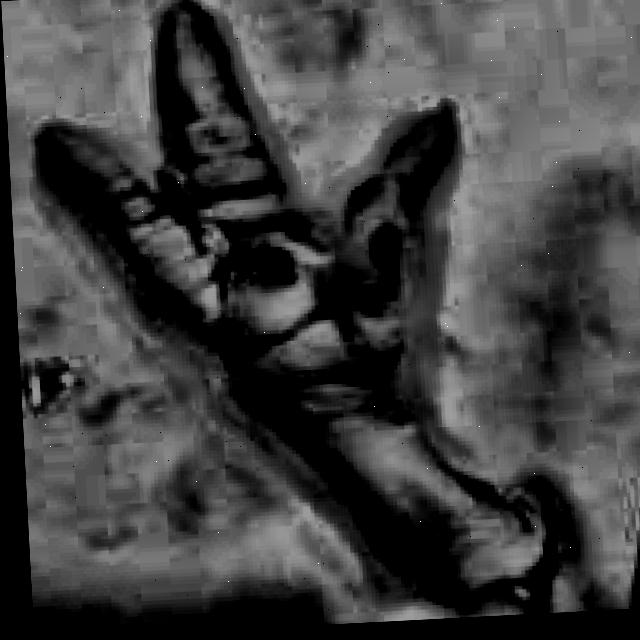Bumble foot: (229, 223, 306, 317), (344, 209, 407, 292)
